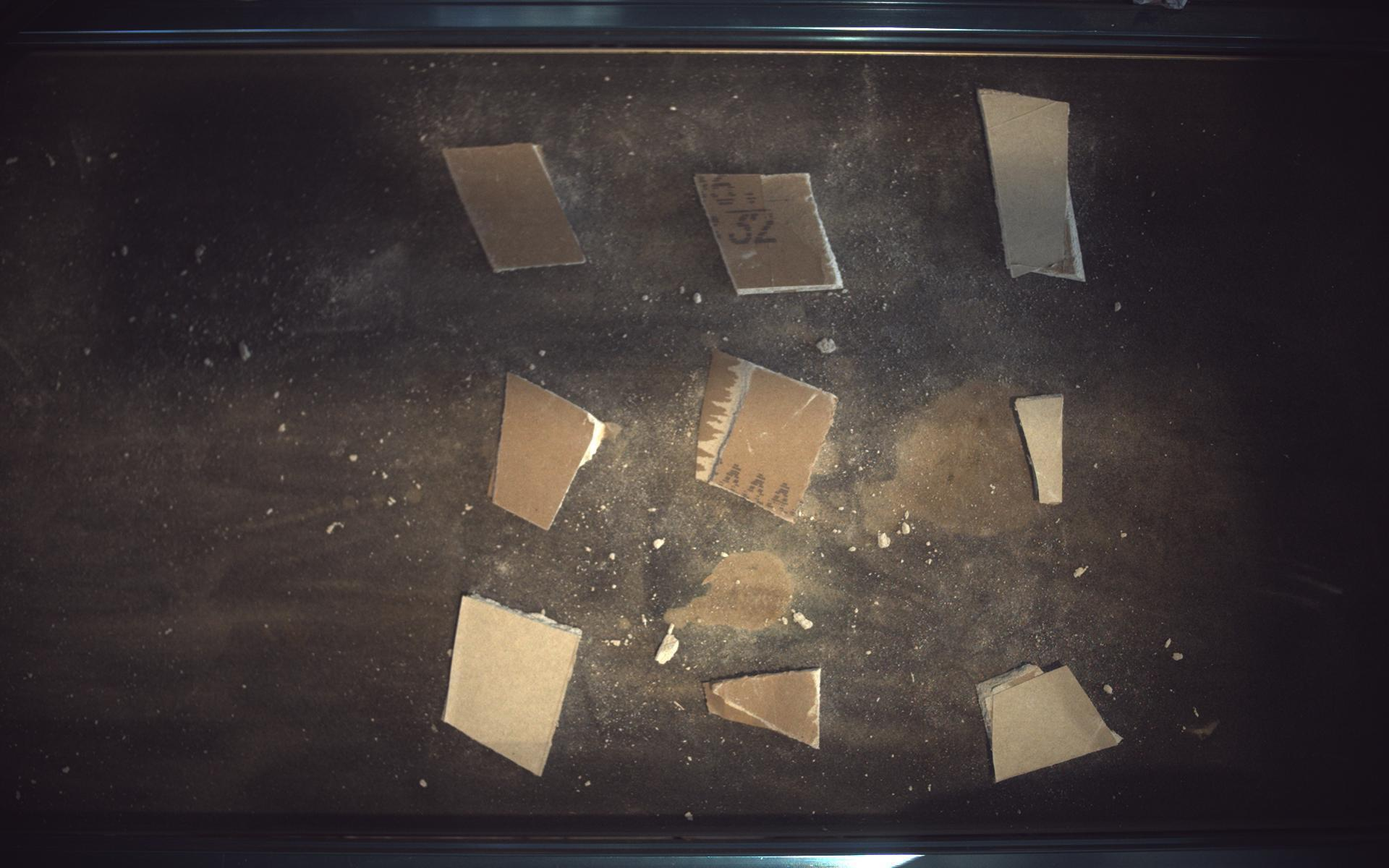gypsum_board: (443, 596, 582, 777), (697, 350, 838, 522), (980, 88, 1087, 281), (490, 374, 621, 530), (443, 142, 586, 272), (696, 172, 844, 294), (979, 665, 1123, 783), (704, 670, 822, 750), (1016, 394, 1066, 505)
